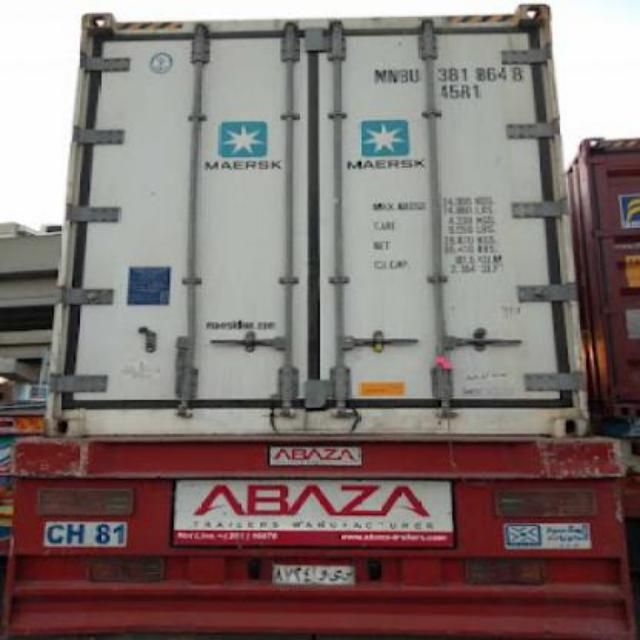1: (458, 58, 472, 82)
3: (436, 63, 448, 81)
4: (494, 63, 510, 81)
6: (488, 64, 498, 84)
8: (510, 57, 528, 83), (450, 63, 460, 87), (474, 62, 486, 82)
B: (398, 58, 410, 88)
M: (372, 67, 388, 83)
N: (384, 61, 398, 87)
U: (410, 66, 422, 86)
